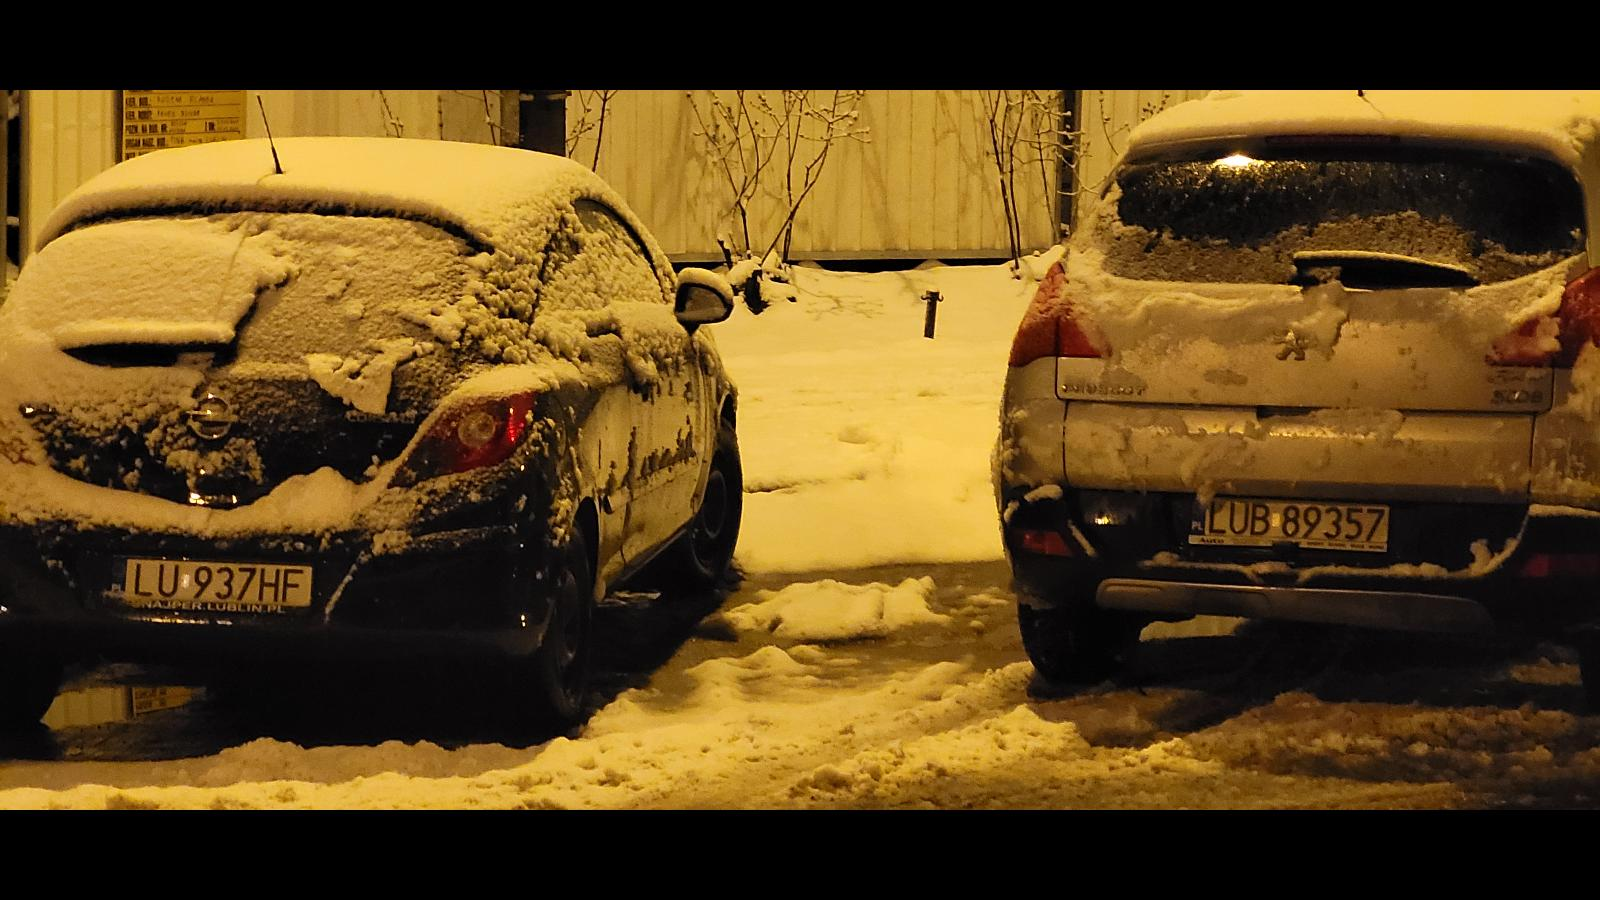plates: (107, 556, 315, 616), (1188, 496, 1392, 556)
